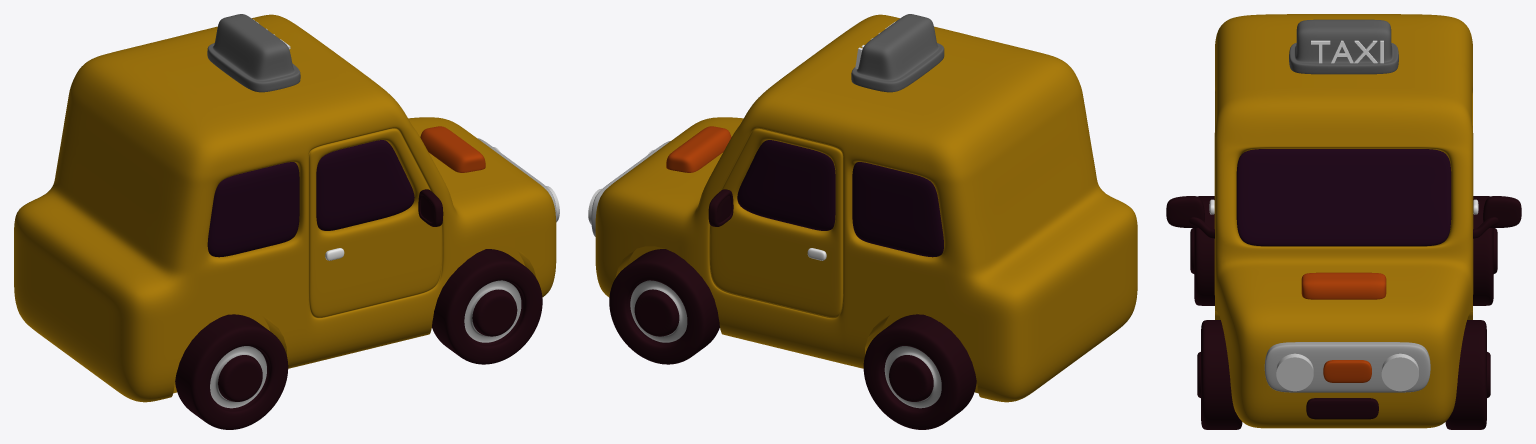
File: taxi-3d-icon-1719428390618.glb
3 views of the same model, side by side, from view 1: azimuth 30°, elevation 25°; view 2: azimuth 150°, elevation 25°; view 3: azimuth 270°, elevation 25° (orthographic).
Parts seen in each view (by area): view 1: Body, Tires, Windows, Signage, Rims, Hood, Mirrors; view 2: Body, Tires, Windows, Signage, Rims, Hood, Mirrors; view 3: Body, Windows, Tires, Signage, Front Panel, Mirrors, Lamp, Hood, Plate Number, Grill, Taxi.
Boxes of the visible parts, x1,y1,x2,y2 form: Body: [14, 14, 556, 402]; Tires: [175, 249, 542, 429]; Windows: [207, 140, 414, 257]; Signage: [207, 14, 300, 92]; Rims: [210, 280, 521, 408]; Hood: [420, 126, 485, 172]; Mirrors: [418, 189, 443, 226]; Body: [595, 14, 1137, 402]; Tires: [609, 249, 976, 429]; Windows: [737, 140, 943, 257]; Signage: [851, 14, 944, 92]; Rims: [630, 280, 941, 408]; Hood: [666, 126, 731, 172]; Mirrors: [708, 189, 733, 226]; Body: [1214, 14, 1473, 428]; Windows: [1236, 149, 1451, 246]; Tires: [1190, 196, 1497, 429]; Signage: [1289, 19, 1398, 74]; Front Panel: [1264, 342, 1430, 392]; Mirrors: [1166, 196, 1521, 238]; Lamp: [1276, 353, 1418, 391]; Hood: [1301, 272, 1386, 299]; Plate Number: [1306, 398, 1378, 419]; Grill: [1323, 360, 1371, 382]; Taxi: [1311, 40, 1383, 63].
Size of the model in its own units: 0.8415 by 0.5687 by 0.5744.
